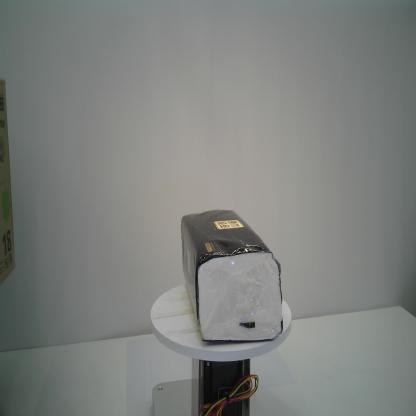Tissue: (178, 206, 284, 344)
